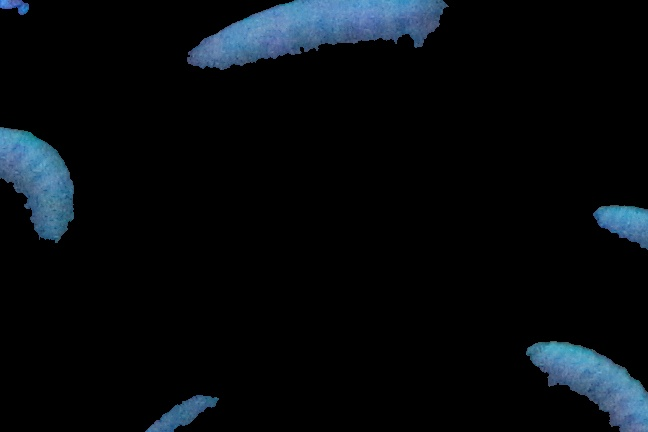larvae: (182, 1, 453, 87), (524, 322, 648, 429), (1, 126, 94, 266)
